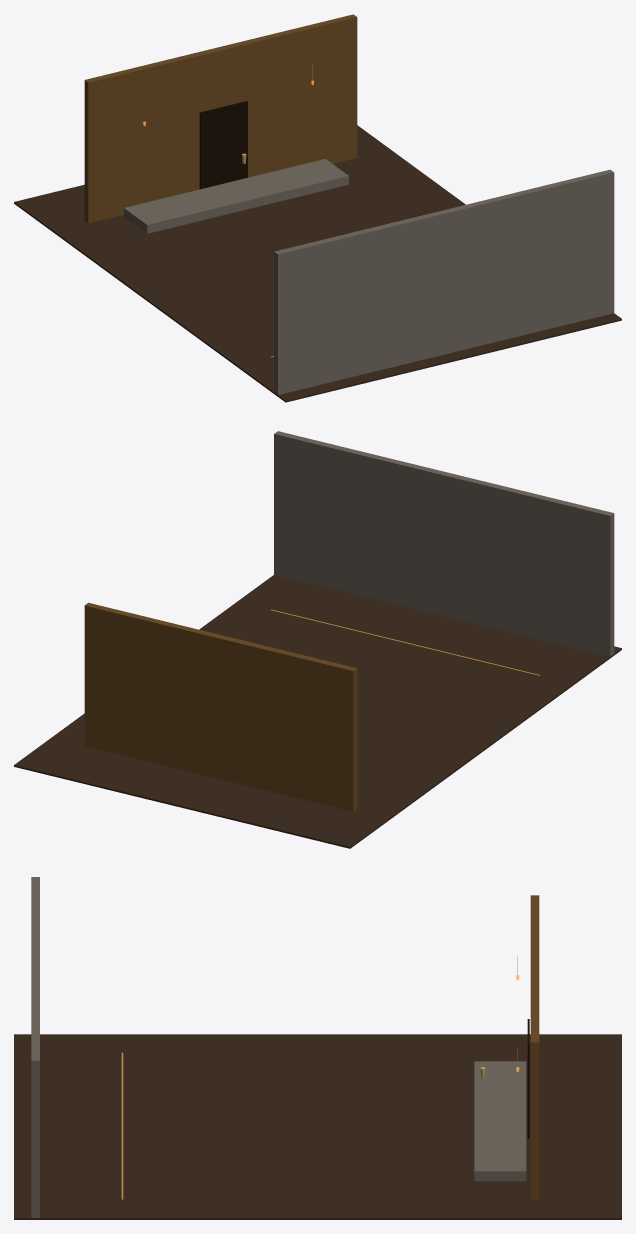
Rendered from sacrament-eucharist.glb.
3 views of the same model, one above another, from view 1: azimuth 30°, elevation 25°; view 2: azimuth 150°, elevation 25°; view 3: azimuth 270°, elevation 25° (orthographic). The views are drawn at different scales.
Parts seen in each view (by area): view 1: west-wall, floor, iconostasis, solea, royal-doors-open; view 2: floor, west-wall, iconostasis; view 3: floor, solea, west-wall, iconostasis.
Boxes of the visible parts, x1,y1,x2,y2 form: west-wall: (274, 169, 614, 394); floor: (14, 125, 621, 402); iconostasis: (84, 14, 357, 223); solea: (124, 159, 348, 233); royal-doors-open: (199, 101, 247, 189); floor: (14, 574, 621, 848); west-wall: (274, 431, 614, 656); iconostasis: (84, 602, 357, 811); floor: (14, 1034, 621, 1219); solea: (474, 1061, 526, 1181); west-wall: (31, 877, 39, 1217); iconostasis: (530, 895, 539, 1199).
Bounding box in the file's own units: 10 × 4.05 × 14.
